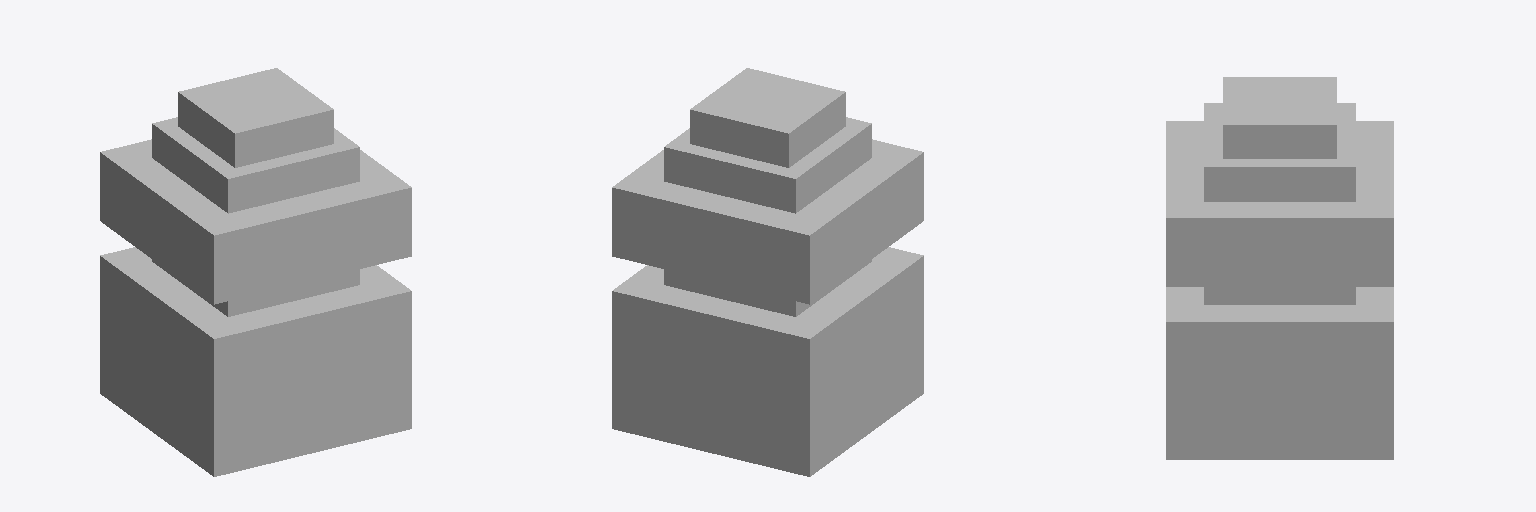
Rendered from connectorMV.obj.
3 views of the same model, side by side, from view 1: azimuth 30°, elevation 25°; view 2: azimuth 150°, elevation 25°; view 3: azimuth 270°, elevation 25° (orthographic).
Visible parts, largest first — view 1: connectorMV; view 2: connectorMV; view 3: connectorMV.
Boxes of the visible parts, <box> form: connectorMV: <box>100,68,411,476</box>; connectorMV: <box>612,68,923,476</box>; connectorMV: <box>1166,77,1393,459</box>.
Size of the model in its own units: 0.375 by 0.5625 by 0.375.